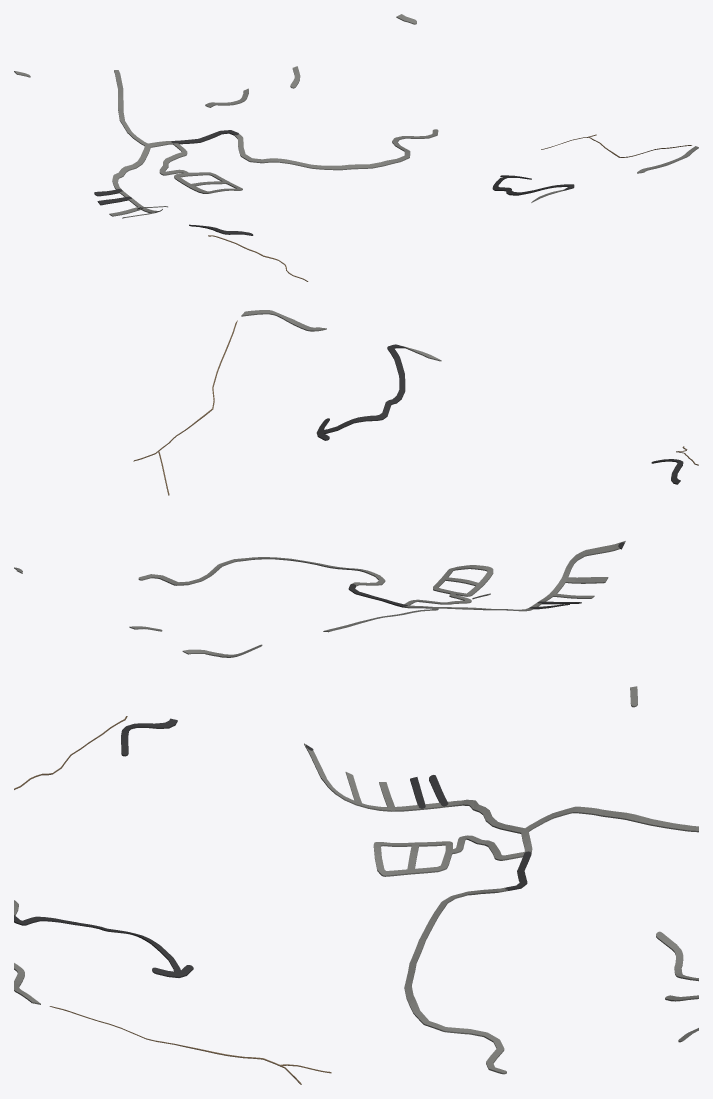
The picture shows the model from 3 angles, top to bottom: view 1: azimuth 30°, elevation 25°; view 2: azimuth 150°, elevation 25°; view 3: azimuth 270°, elevation 25°; orthographic projection. The views are drawn at different scales.
Bounding box in the file's own units: 587 × 140 × 583.
